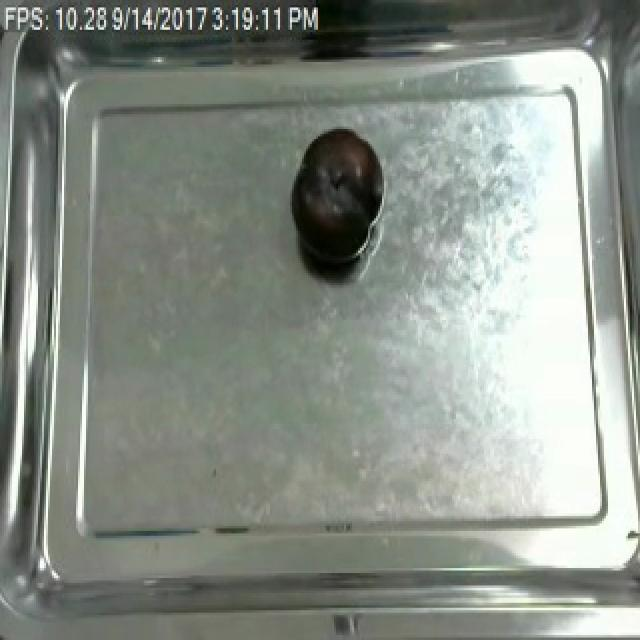Fruit: (288, 124, 386, 273)
